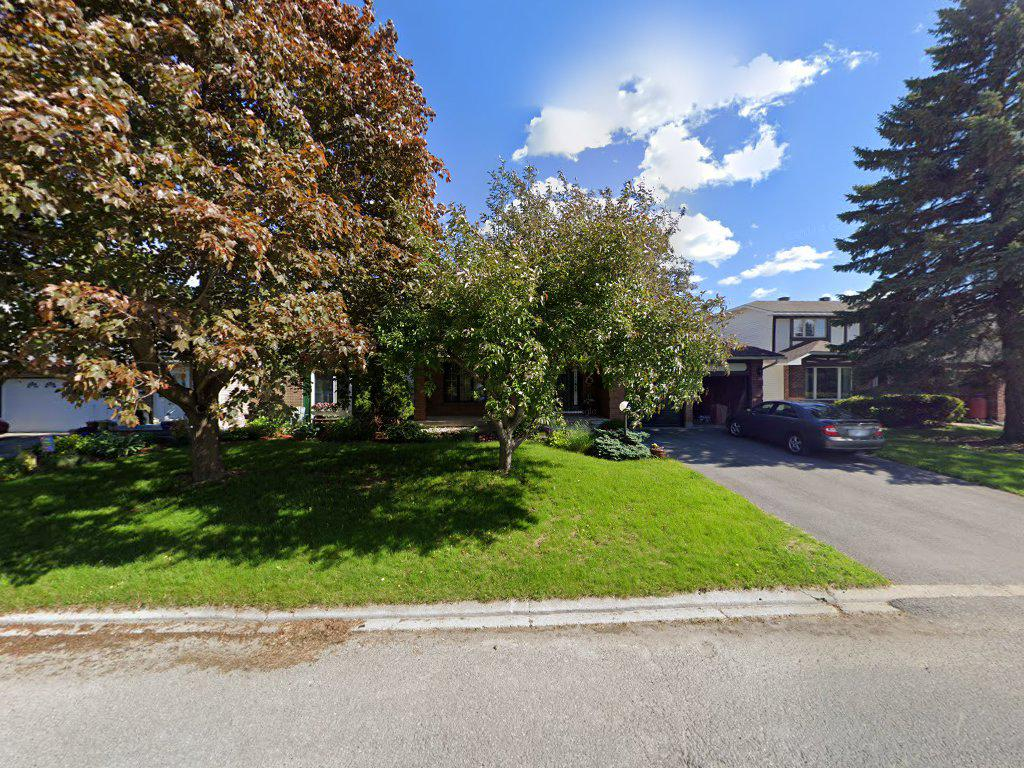trunk: (181, 387, 227, 486), (491, 399, 525, 481)
